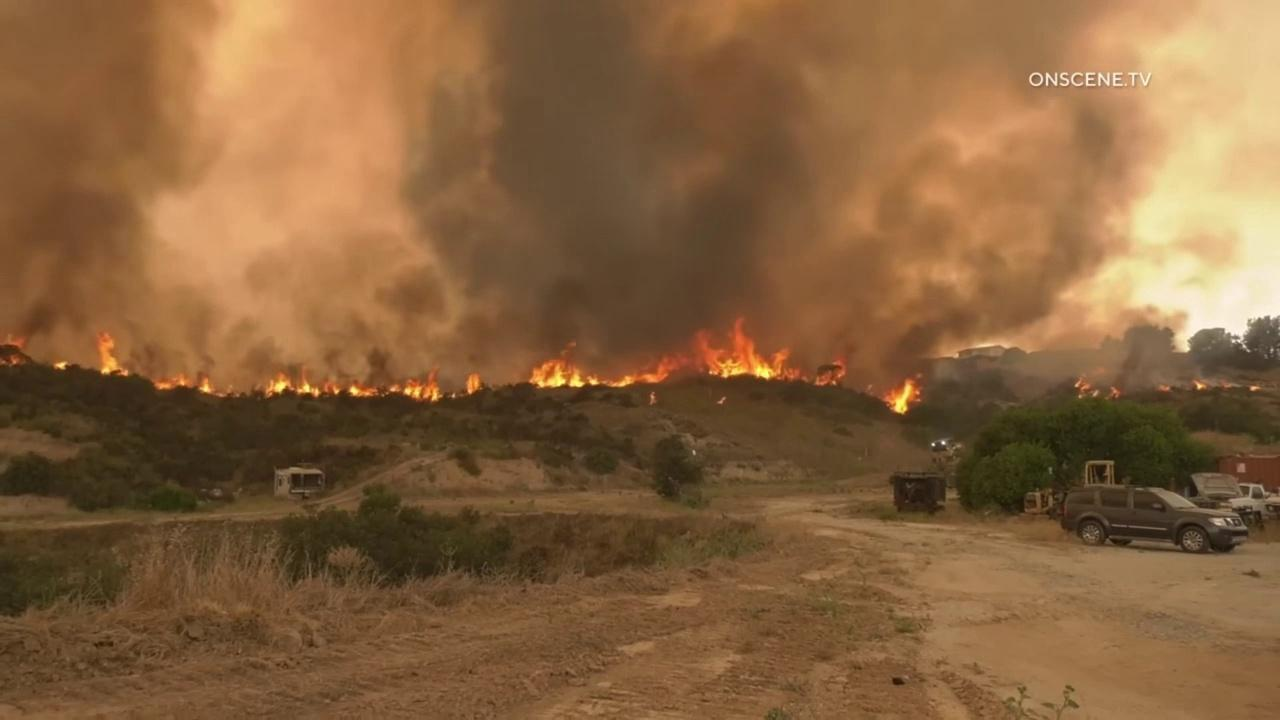fire: (528, 311, 800, 389), (347, 368, 444, 402), (264, 367, 340, 398), (881, 374, 921, 416), (97, 330, 128, 376), (154, 373, 212, 393), (815, 355, 848, 388), (1074, 376, 1099, 399), (463, 372, 481, 395), (0, 354, 21, 367), (1104, 387, 1121, 400), (9, 336, 25, 349), (1193, 380, 1208, 391), (53, 361, 69, 371), (647, 391, 657, 406), (716, 396, 727, 405), (1159, 385, 1170, 392), (1249, 386, 1261, 392), (801, 375, 808, 383), (1223, 384, 1232, 389), (450, 393, 456, 399)
smoke: (0, 0, 1280, 399)
